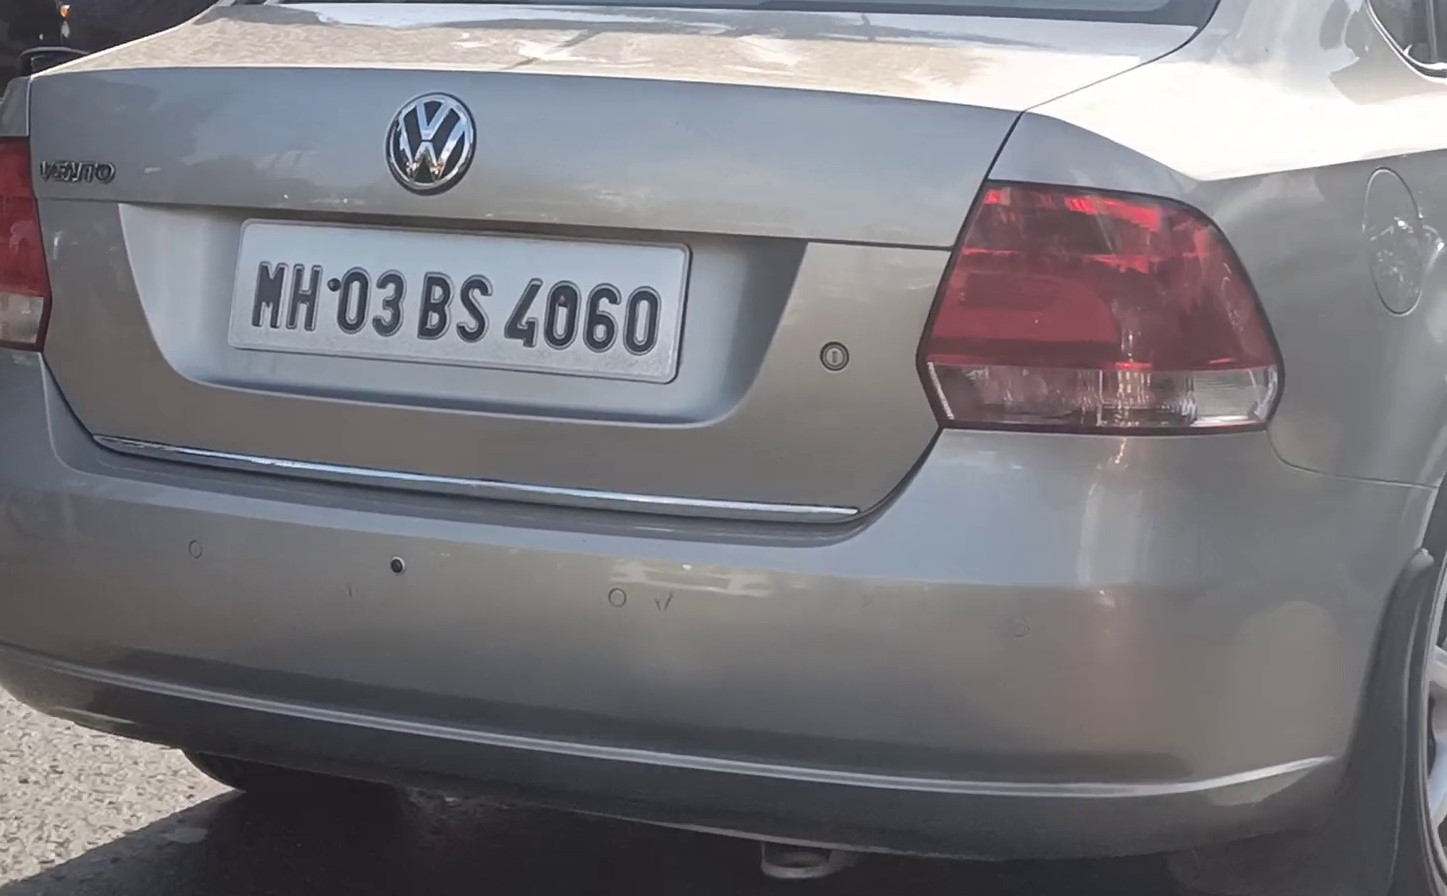MH03BS4060: (226, 213, 693, 387)
